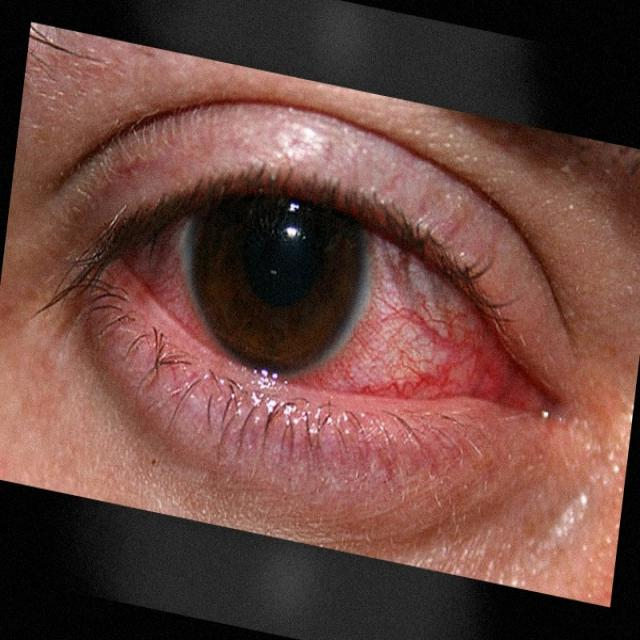Keratitis: (69, 124, 568, 507)
